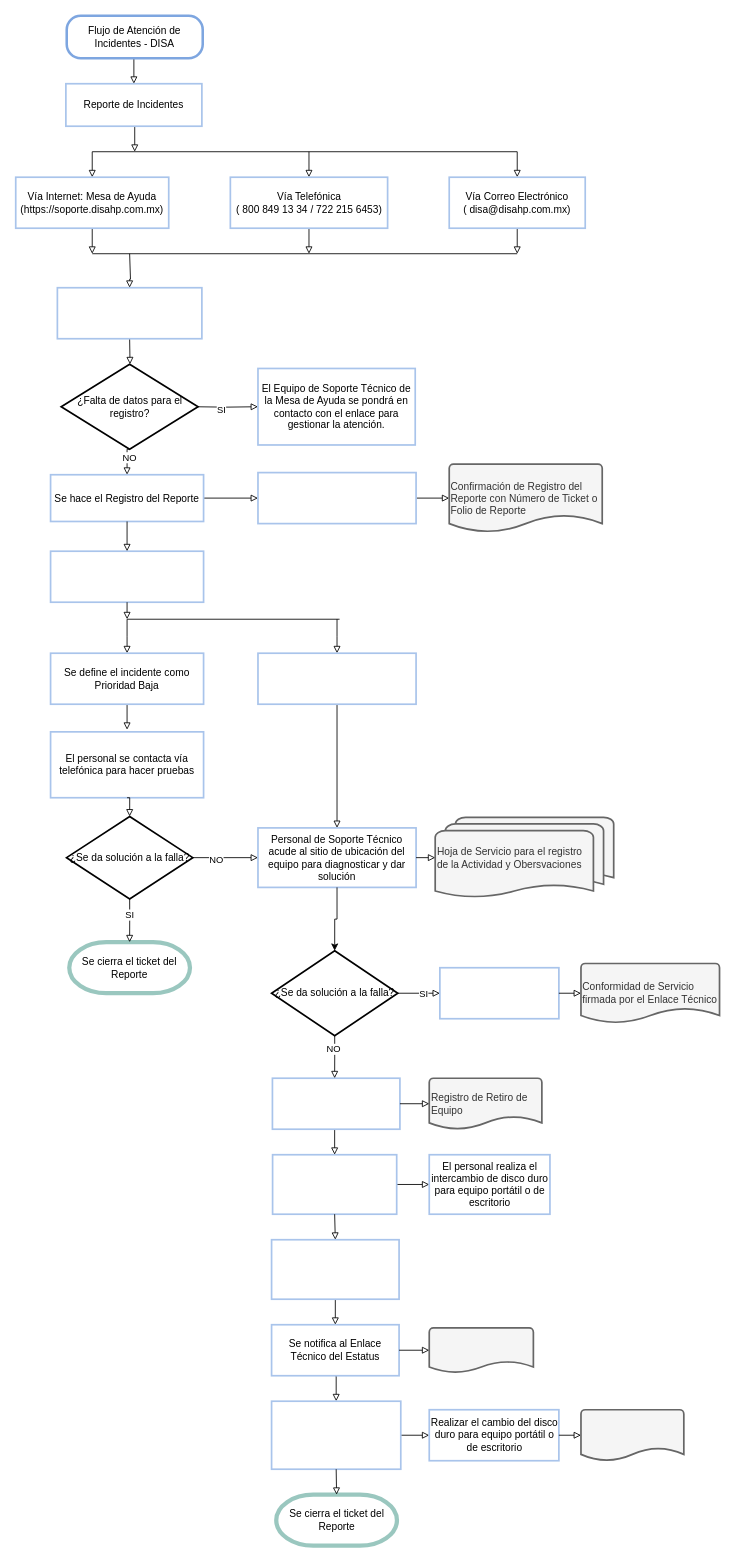
This 734x1562 diagram has some shape labels left out. The shapes that lost their labels are listed below. From the top down, each one's centre as x and y in pixels, then its label:
At [129,312]: "Proporcionar el mínimo de datos para el registro".
At [336,497]: "Envío automático de la confirmación vía correo electrónico".
At [126,576]: "Se define la prioridad del incidente".
At [336,678]: "Se define el incidente como Prioridad Alta".
At [499,992]: "El Equipo de Mesa de Ayuda cierra el ticket".
At [335,1103]: "El personal retira el Equipo Asigando".
At [334,1184]: "Se deja un Equipo de Soporte de características similares".
At [335,1269]: "DISA tramita y hace seguimiento de garantías con el fabricante".
At [481,1350]: "Estatus del Reporte".
At [335,1435]: "El personal de Soporte Técnico acude a la Entrega del Equipo, una vez reparado".
At [632,1434]: "Hoja de Servicio".
